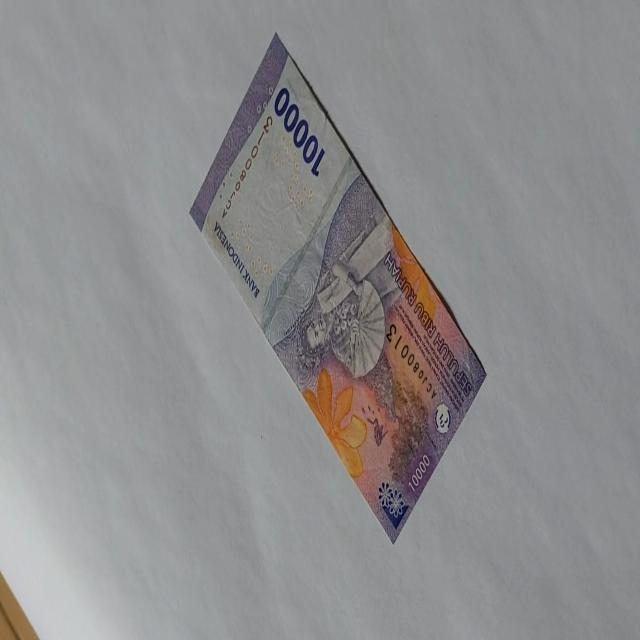sepuluh ribu rupiah: (188, 30, 488, 545), (274, 84, 326, 178)
